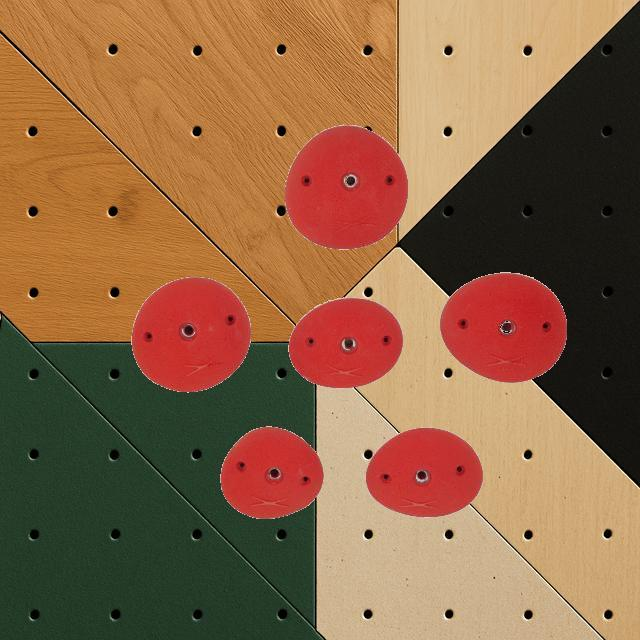Sloper: (282, 124, 408, 250), (439, 272, 566, 382), (132, 276, 250, 392), (364, 427, 484, 517), (288, 298, 404, 389), (220, 426, 324, 520)
